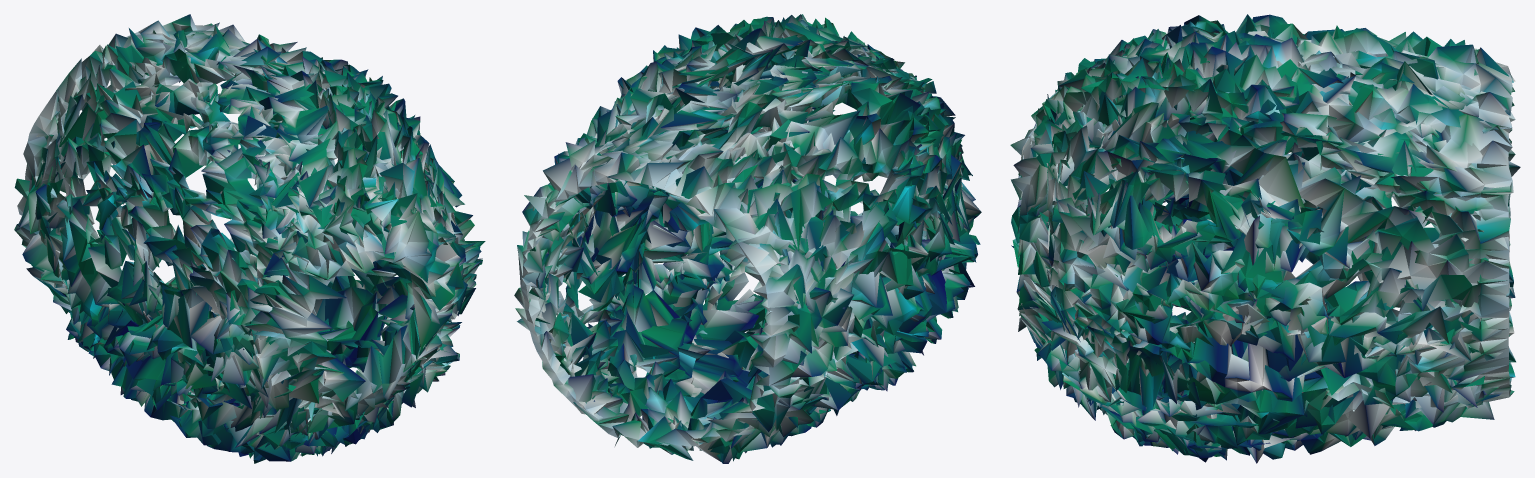
The model's file is lamp_shade_14_final300.obj.
3 renders of one model, left to right at view 1: azimuth 30°, elevation 25°; view 2: azimuth 150°, elevation 25°; view 3: azimuth 270°, elevation 25°, orthographic. The views are drawn at different scales.
Bounding box in the file's own units: 1.36 × 1.37 × 1.56.
